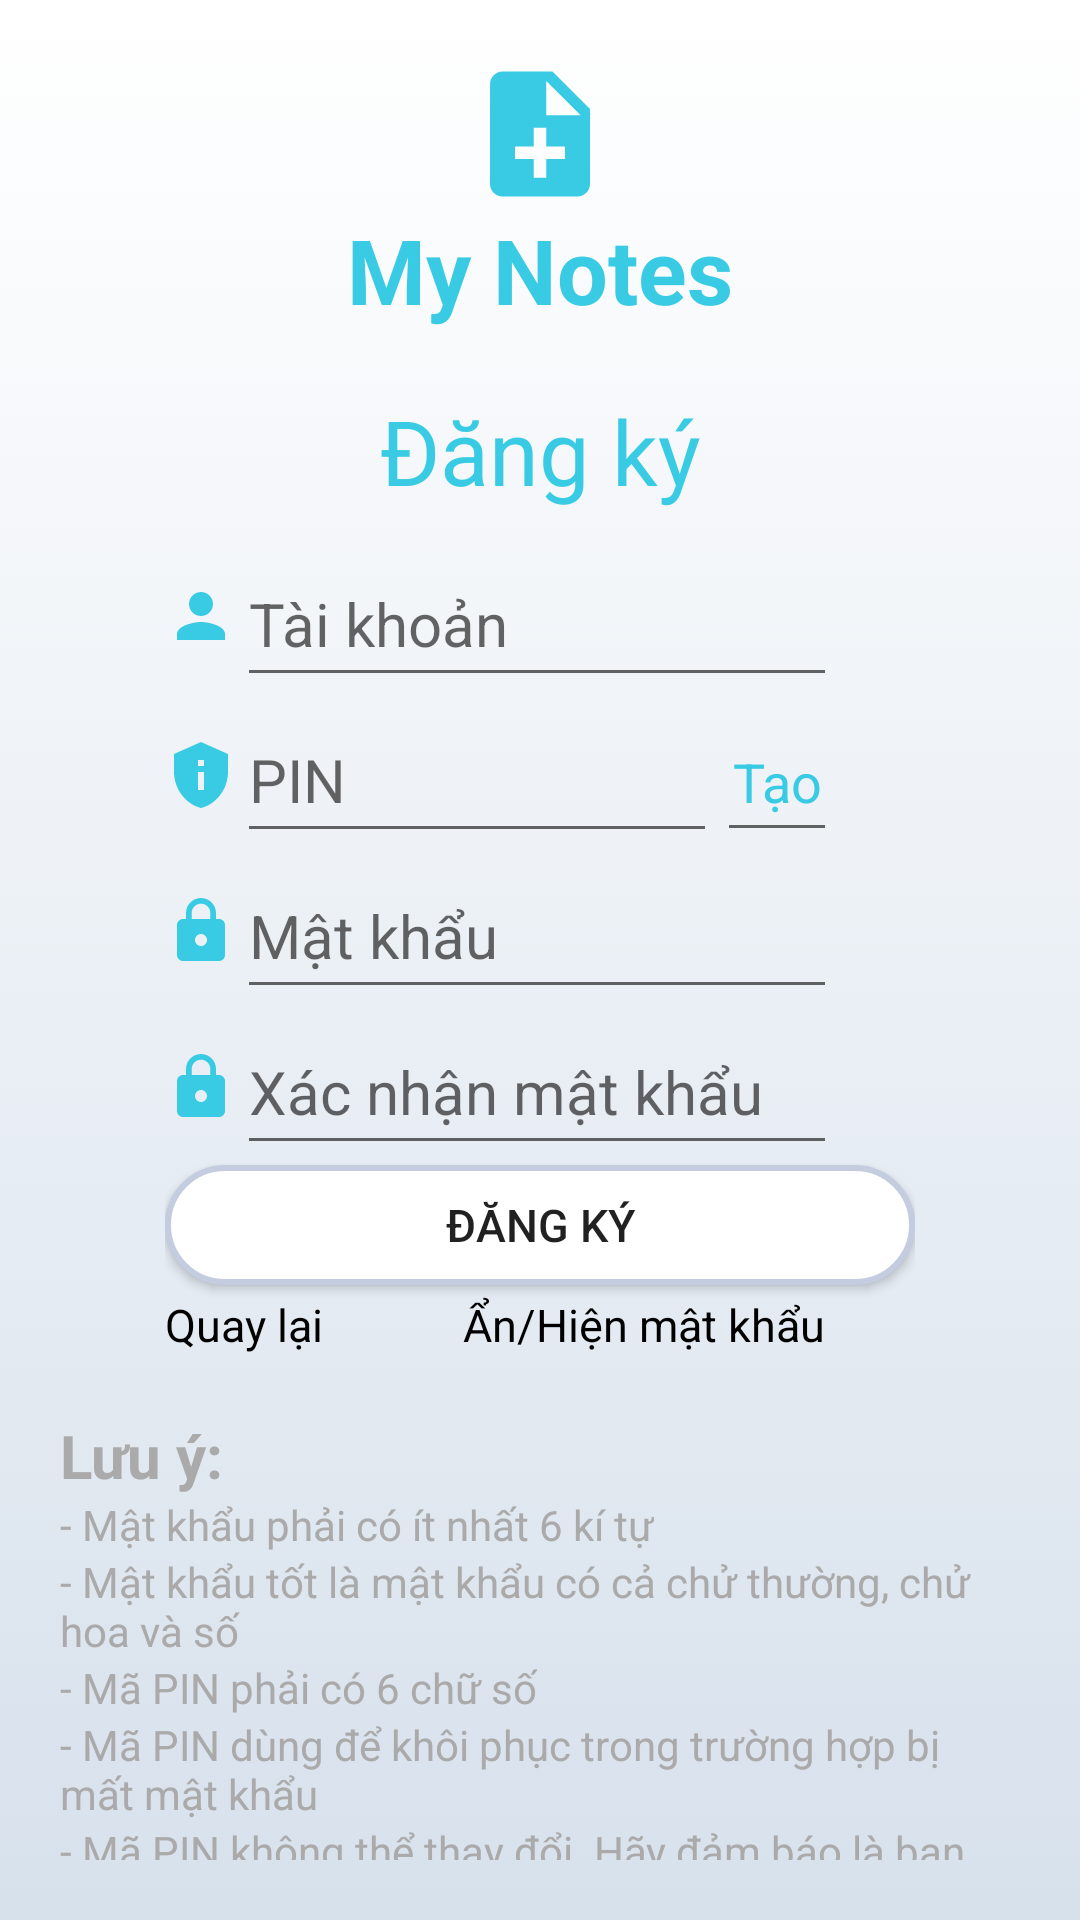

Icon click points for this 1080px x 1920px phone screenshot, format [x,y]:
lock: [201,929], [201,1085]
note add: [540,134]
person: [201,616]
privacy tip: [201,775]
